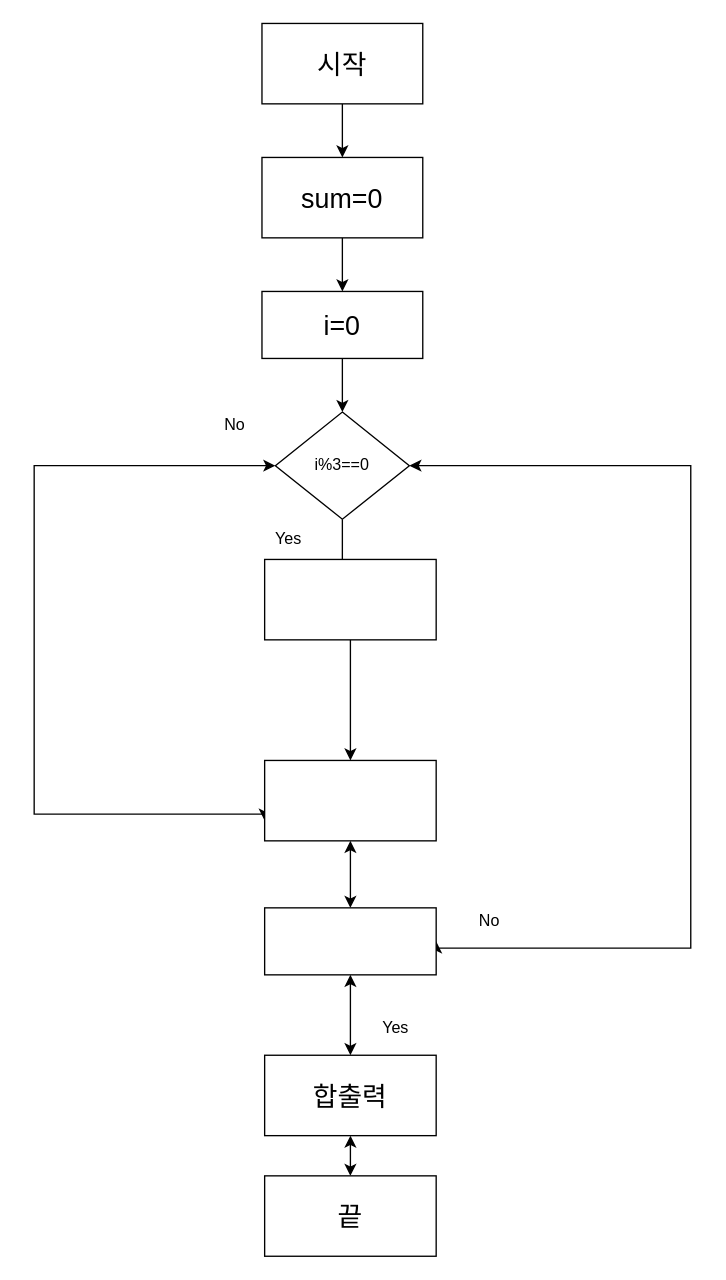
Some shapes in this 726 by 1280 pixel diagram are drawn without their labels. The shapes that lost their labels are listed below. From the top down, each one's centre as x and y in pixels, then its label:
the point at 349,599: sum = sum + i
the point at 349,800: i++
the point at 349,941: i>=100
